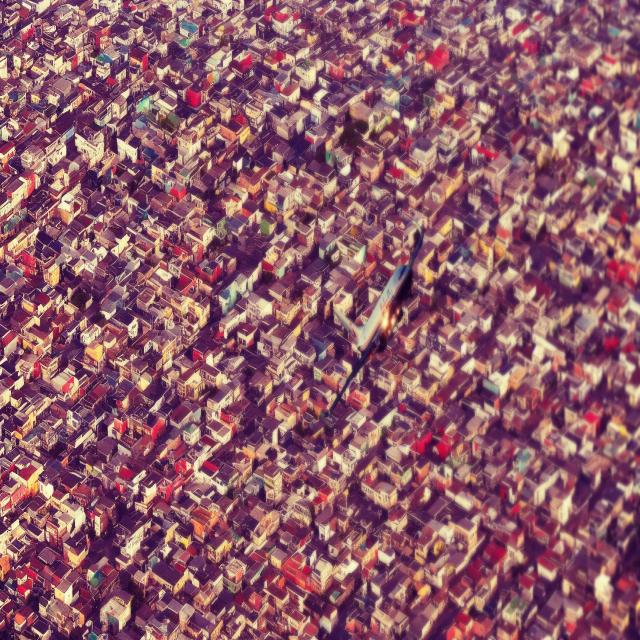airplane: (320, 223, 424, 417)
